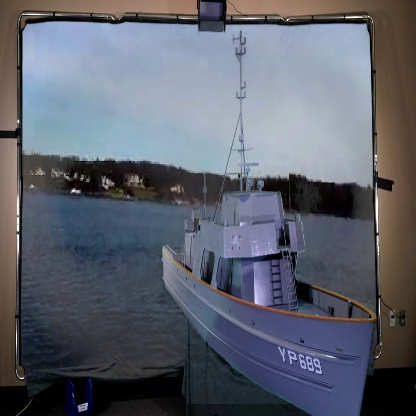YP689: (161, 29, 376, 416)
